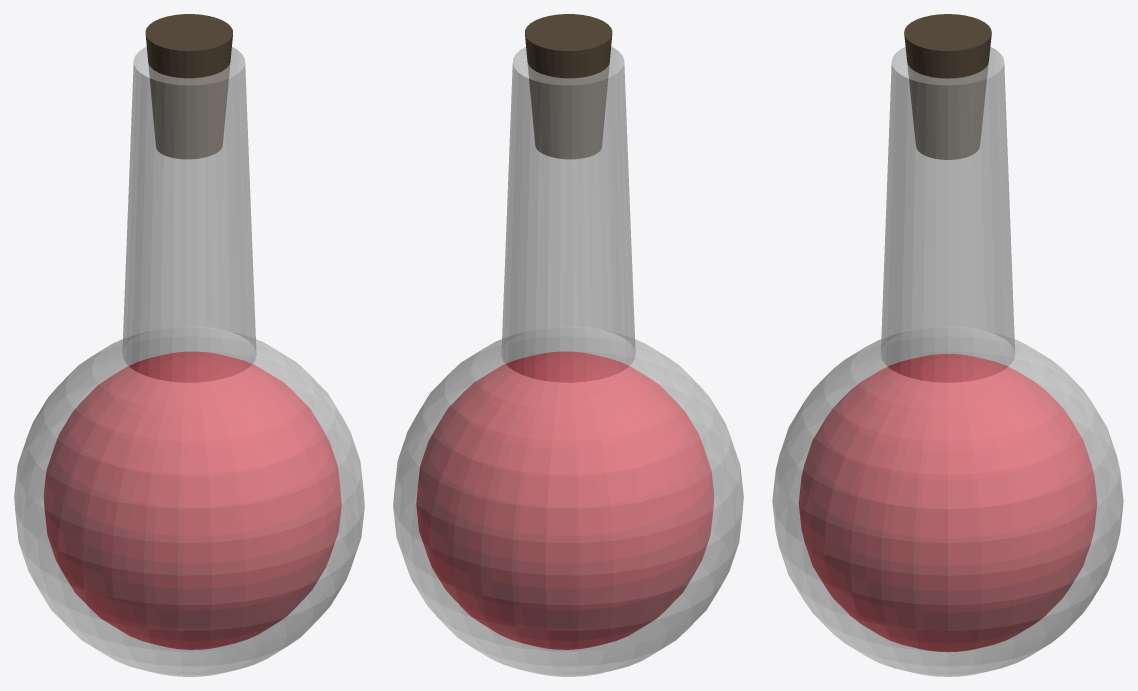
File: potion.fbx
The picture shows the model from 3 angles, left to right: view 1: azimuth 30°, elevation 25°; view 2: azimuth 150°, elevation 25°; view 3: azimuth 270°, elevation 25°; orthographic projection.
Visible parts, largest first — view 1: 球, 球.001, 円柱; view 2: 球, 球.001, 円柱; view 3: 球, 球.001, 円柱.
Boxes of the visible parts, left/top/right/bottom form: 球: left=14, top=46, right=364, bottom=676; 球.001: left=43, top=351, right=341, bottom=649; 円柱: left=145, top=14, right=232, bottom=159; 球: left=393, top=46, right=743, bottom=676; 球.001: left=416, top=351, right=714, bottom=649; 円柱: left=525, top=14, right=612, bottom=159; 球: left=772, top=46, right=1123, bottom=676; 球.001: left=798, top=354, right=1097, bottom=652; 円柱: left=904, top=14, right=991, bottom=159.
Bounding box in the file's own units: 200 × 394 × 200.
